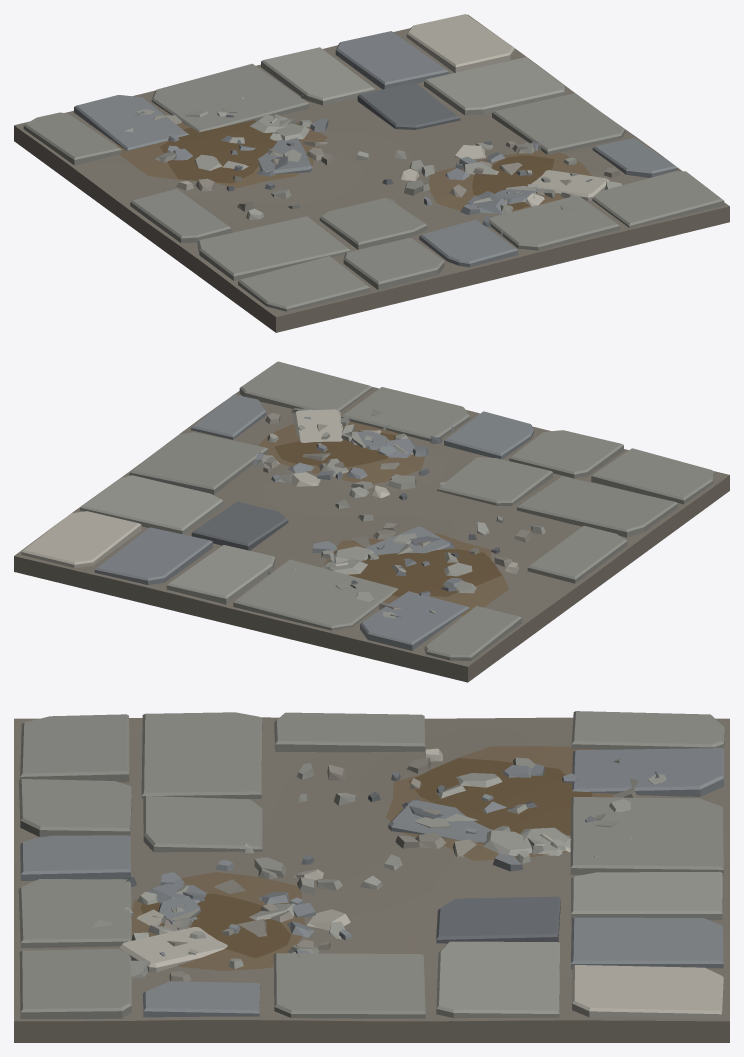
The model's file is SM_LPD_Floor_PavingRubble_01.fbx.
3 views of the same model, one above another, from view 1: azimuth 30°, elevation 25°; view 2: azimuth 150°, elevation 25°; view 3: azimuth 270°, elevation 25° (orthographic). The views are drawn at different scales.
Parts seen in each view (by area): view 1: SM_LPD_Floor_PavingRubble_01; view 2: SM_LPD_Floor_PavingRubble_01; view 3: SM_LPD_Floor_PavingRubble_01.
Boxes of the visible parts, box(x1,y1,x2,y2) form: SM_LPD_Floor_PavingRubble_01: box(14, 14, 729, 332); SM_LPD_Floor_PavingRubble_01: box(14, 361, 729, 682); SM_LPD_Floor_PavingRubble_01: box(14, 711, 729, 1042).
Bounding box in the file's own units: 4 × 0.2 × 4.
